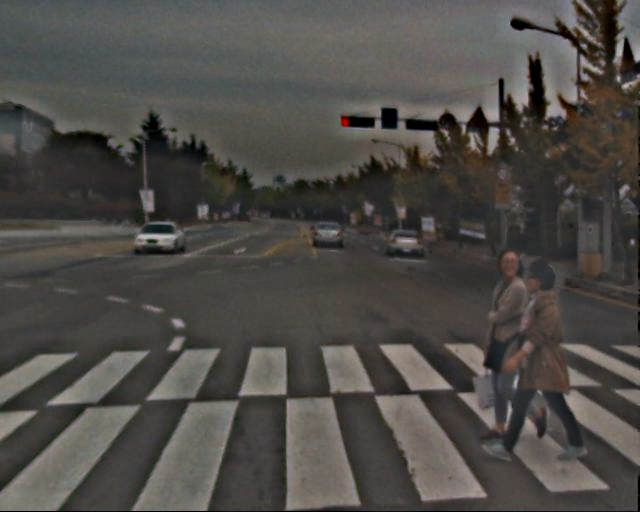person: (501, 255, 580, 463), (474, 241, 545, 447)
